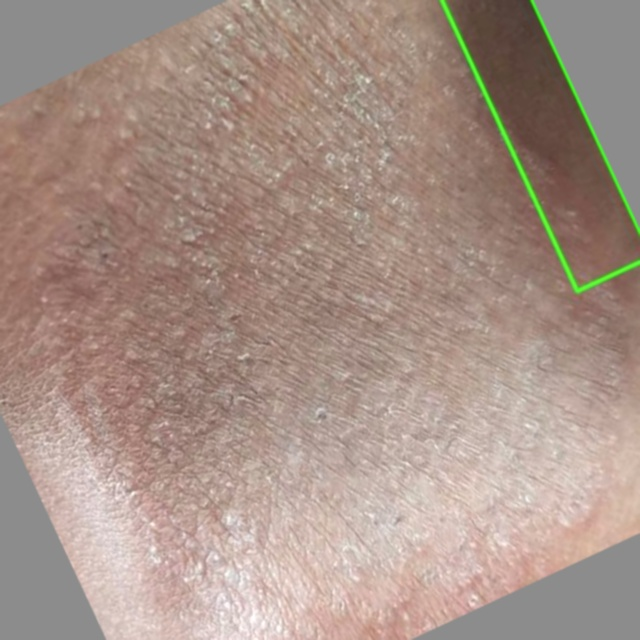Tinea Corporis: (440, 0, 639, 292)
